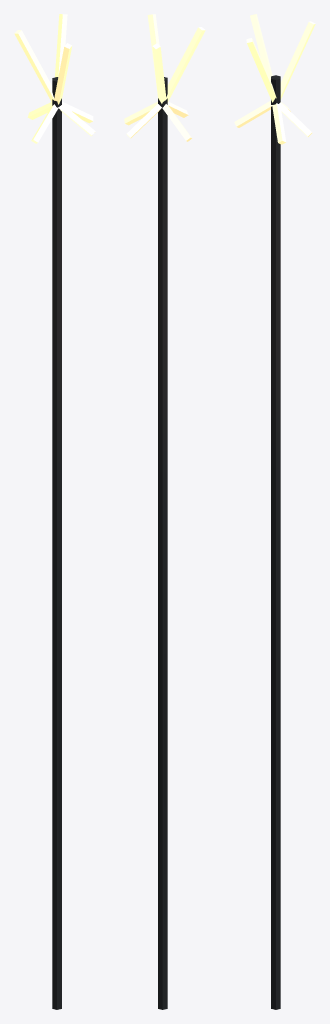
The model's file is Hold_Sparkler.fbx.
The picture shows the model from 3 angles, left to right: view 1: azimuth 30°, elevation 25°; view 2: azimuth 210°, elevation 25°; view 3: azimuth 330°, elevation 25°; orthographic projection.
Visible parts, largest first — view 1: Hold_Sparkler; view 2: Hold_Sparkler; view 3: Hold_Sparkler.
Part boxes in pixels (x1,y1,x2,y2): Hold_Sparkler: (14,14,95,1009); Hold_Sparkler: (124,14,205,1009); Hold_Sparkler: (234,14,315,1009).
Size of the model in its own units: 0.03 by 0.4 by 0.03.
Materials: 2 (1 with a texture image).
